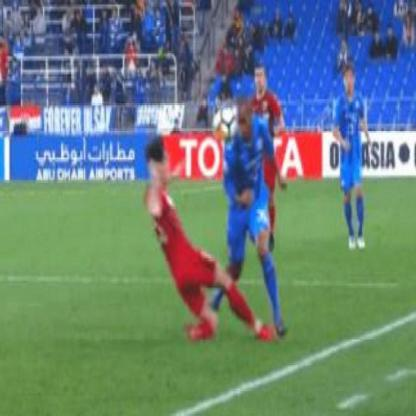Fall_Down: (143, 139, 273, 344)
